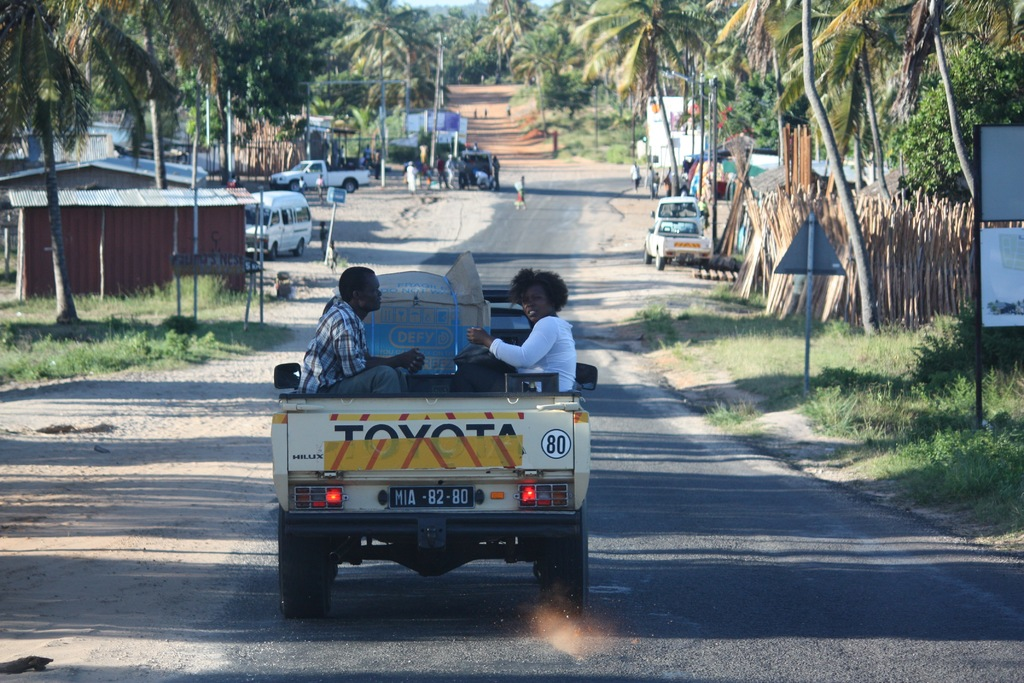mobil: (259, 252, 604, 617), (270, 157, 375, 197), (644, 222, 707, 264)
